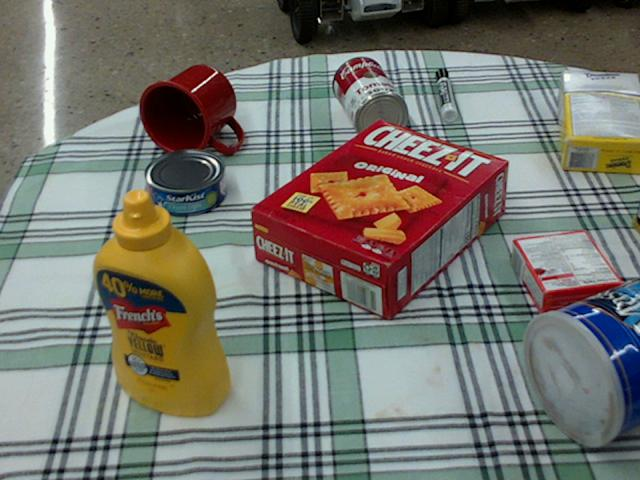cracker_box: (250, 120, 510, 319)
gelatin_box: (510, 229, 621, 312)
large_marker: (435, 68, 456, 120)
master_chef_can: (524, 276, 639, 447)
mug: (138, 64, 242, 156)
mustard_bottle: (92, 188, 231, 415)
potted_meat_can: (630, 193, 639, 235)
sugar_box: (558, 69, 639, 175)
tomato_soup_can: (332, 55, 408, 141)
tuna_fish_can: (143, 148, 225, 214)
